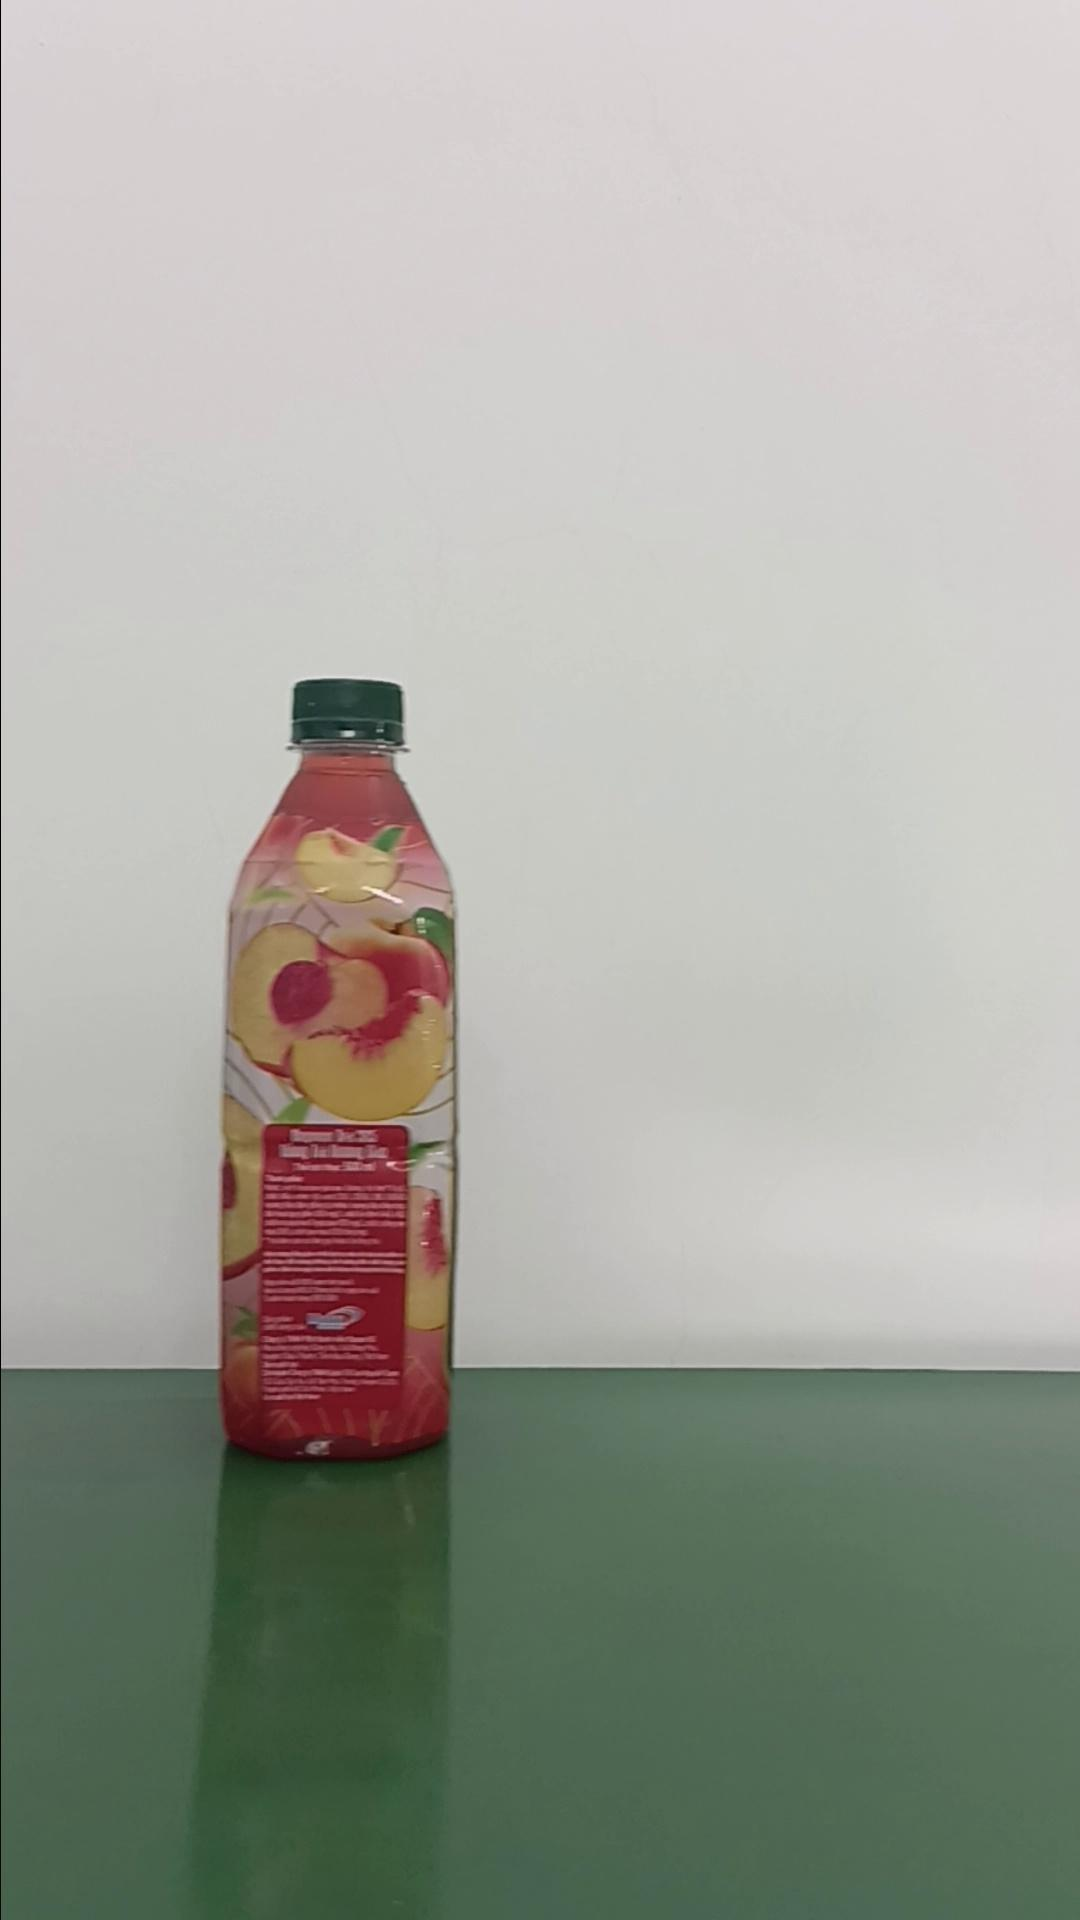khong loi: (216, 675, 460, 1461)
